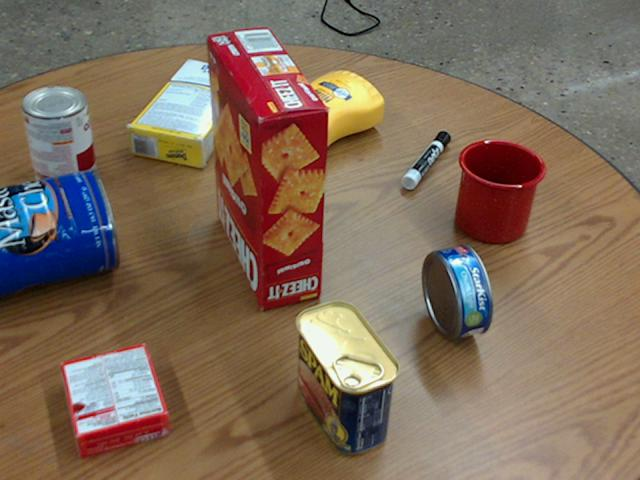cracker_box: (206, 27, 328, 309)
gelatin_box: (60, 343, 170, 456)
large_marker: (401, 131, 450, 188)
master_chef_can: (0, 167, 118, 297)
mug: (453, 138, 545, 242)
mustard_bottle: (238, 71, 383, 157)
potted_meat_can: (295, 300, 401, 455)
sugar_box: (127, 57, 252, 167)
tomato_soup_can: (21, 85, 96, 197)
tuna_fish_can: (423, 243, 491, 339)
